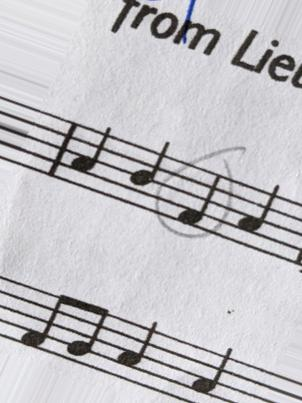A: (235, 174, 283, 264), (68, 114, 114, 204), (116, 313, 160, 395), (190, 338, 238, 402)
B: (126, 137, 173, 227)
F: (176, 158, 224, 241)
